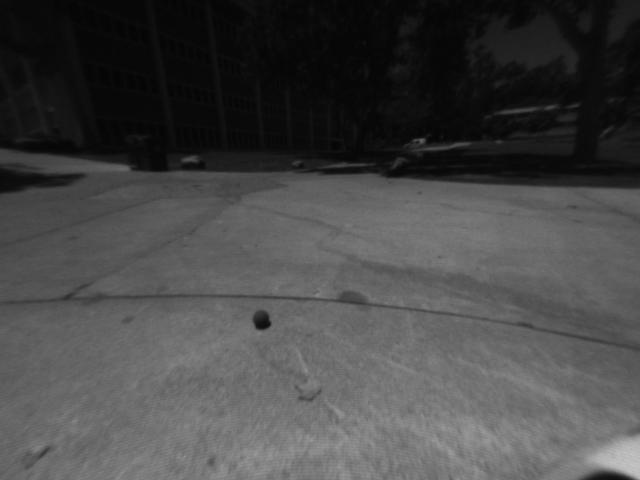dogtoy: (248, 303, 278, 334)
